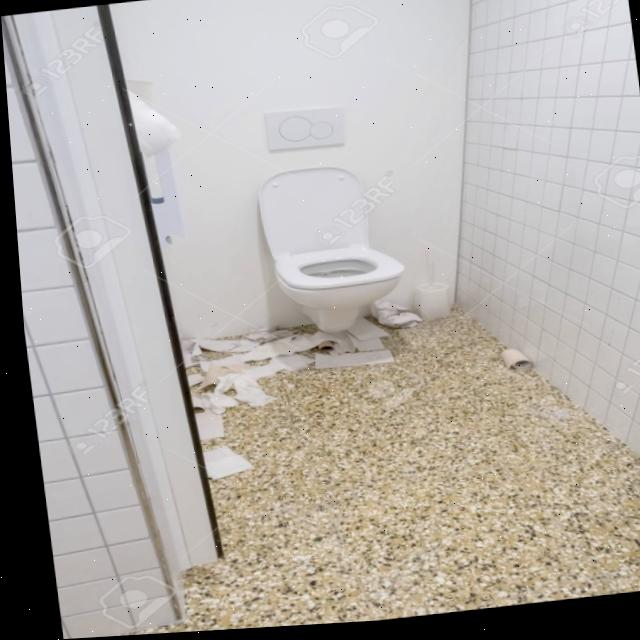garbage: (175, 321, 289, 490), (272, 300, 451, 388), (480, 332, 551, 392)
